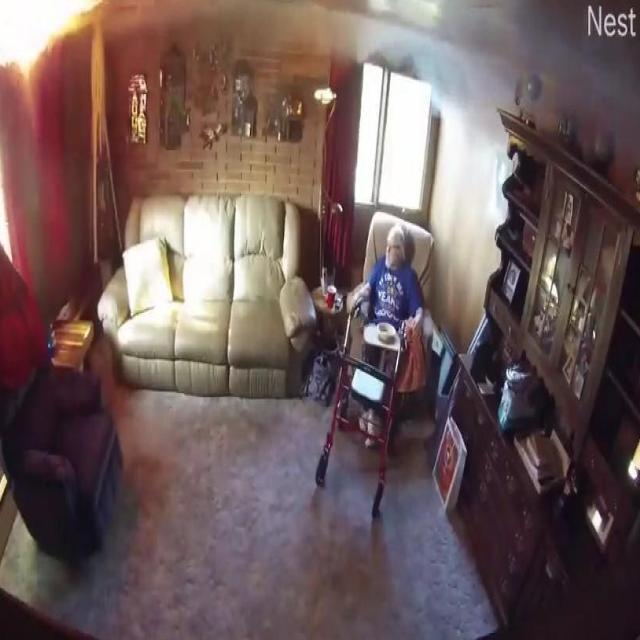fire: (389, 0, 640, 168), (113, 0, 374, 70)
smoke: (0, 0, 101, 77)
